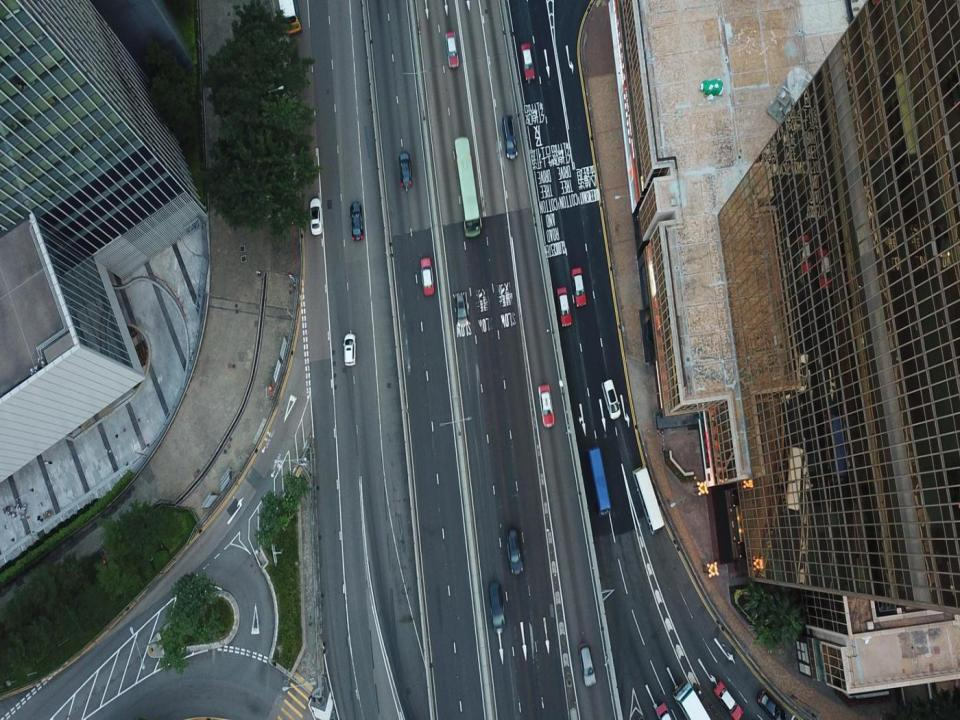bus: (454, 136, 482, 237), (632, 464, 665, 533), (586, 447, 612, 516), (672, 682, 710, 719)
car: (715, 681, 742, 719), (757, 688, 787, 718), (537, 382, 556, 428), (489, 580, 505, 630), (578, 642, 596, 686), (602, 378, 620, 419), (555, 285, 572, 327), (502, 115, 518, 158), (508, 530, 522, 575), (421, 256, 435, 296), (521, 41, 535, 81), (445, 30, 459, 68), (572, 267, 585, 307), (349, 202, 363, 239), (309, 197, 322, 235), (399, 152, 412, 188), (343, 331, 354, 366), (455, 294, 468, 323), (654, 701, 671, 719)
